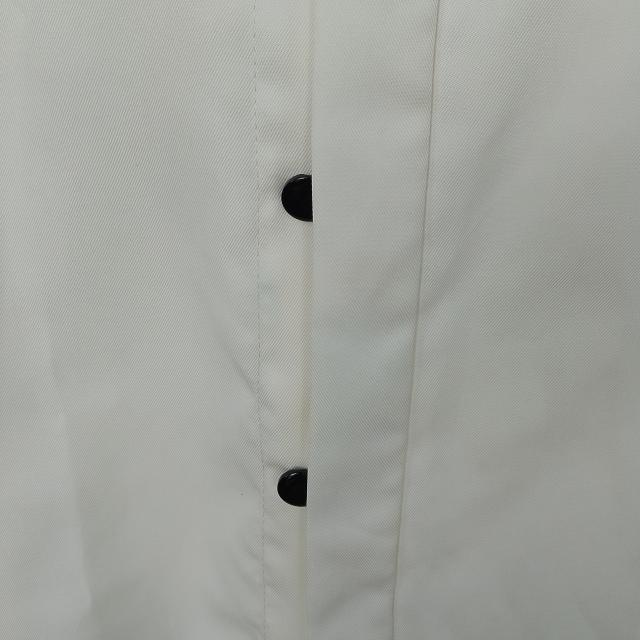education_male_uniform: (77, 12, 593, 640)
